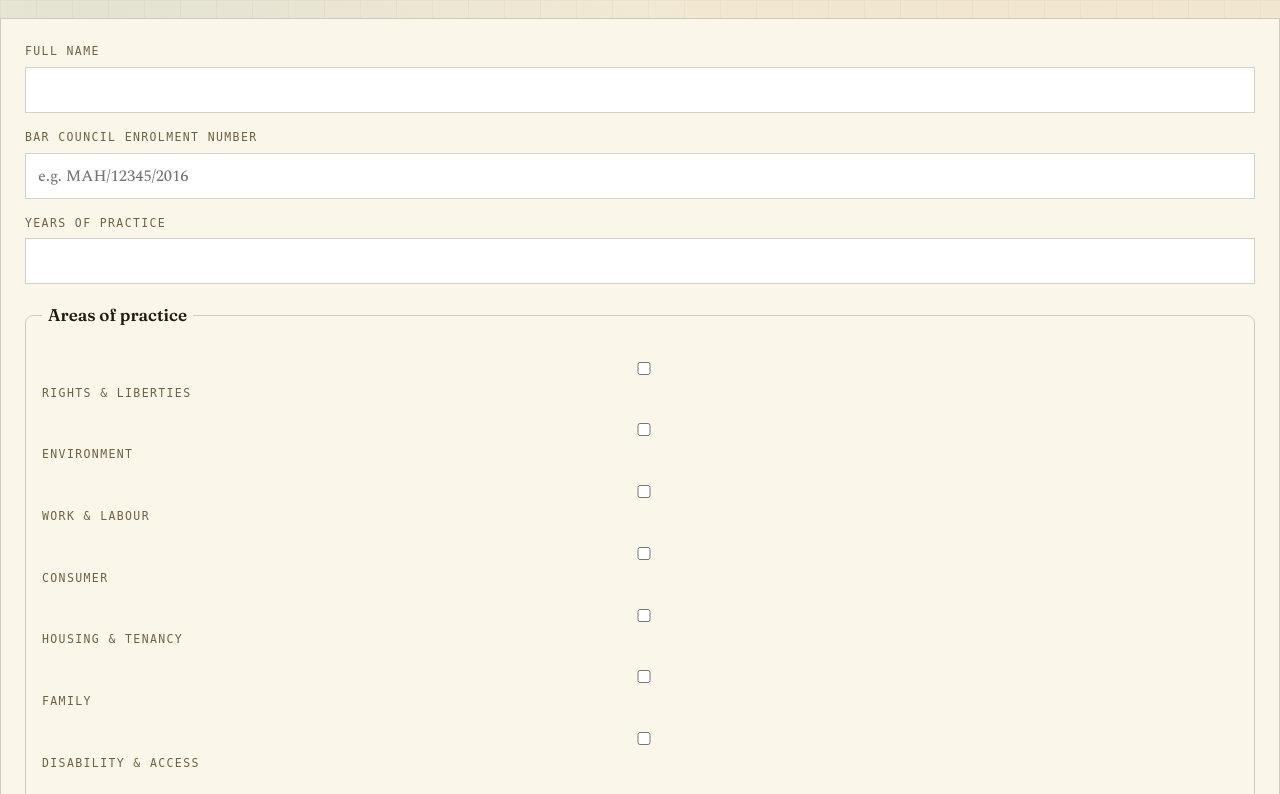
Test: LawyerApplicationForm › surfaces server-side validation errors
Type "M P" into the field labelled "Full name". click: (640, 90)
box: [25,67,1255,113]
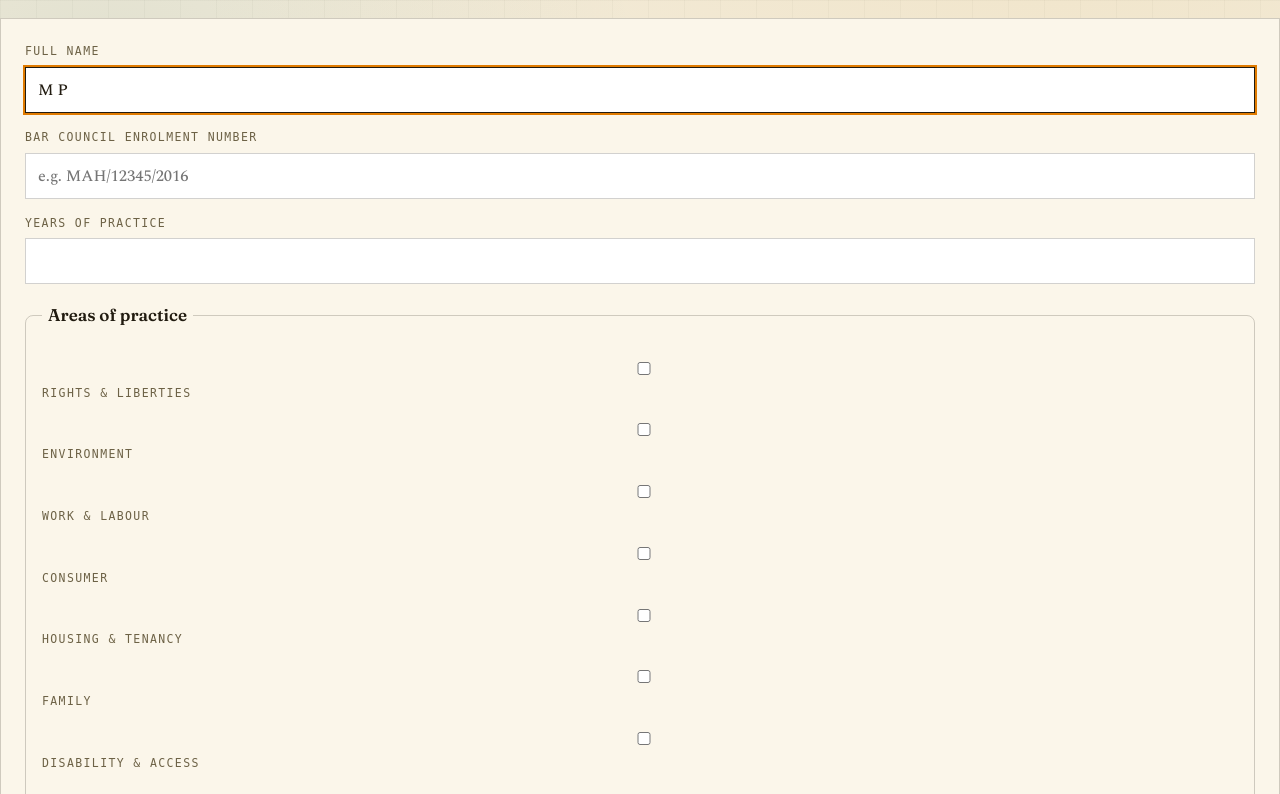
Type "x" into the field labelled "Bar council enrolment number". click: (640, 176)
box: [25,153,1255,199]
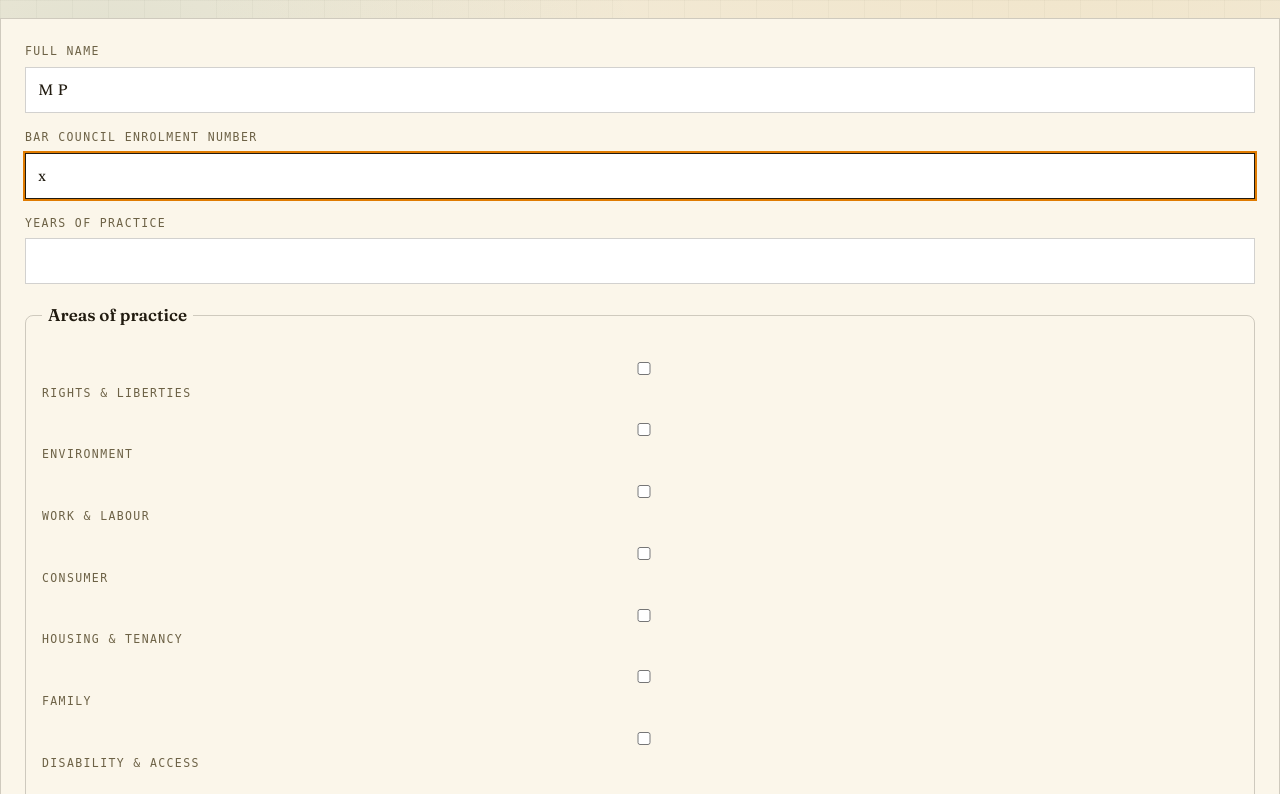
Type "2" into the number field labelled "Years of practice". click: (640, 261)
box: [25,238,1255,284]
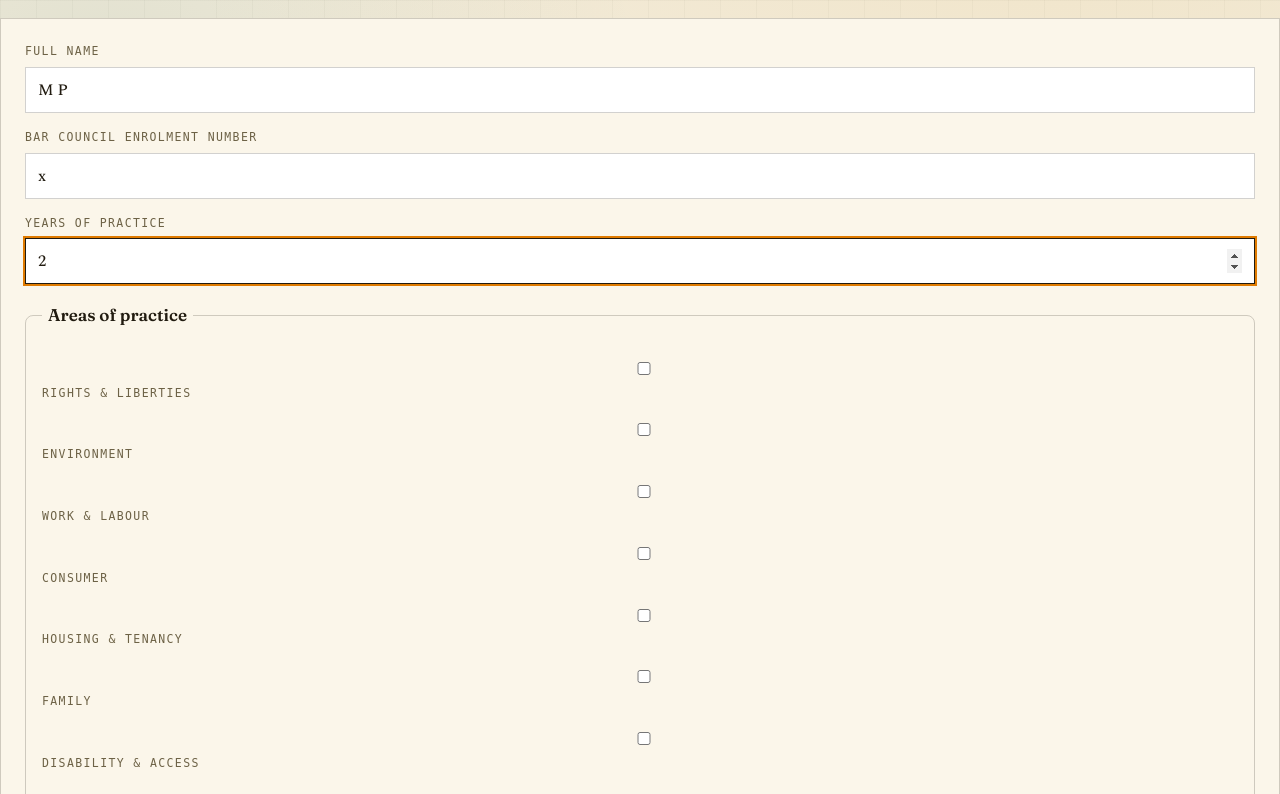
Click the checkbox labelled "Environment". click: (644, 430)
box: [46,424,1242,436]
(page scrolled)
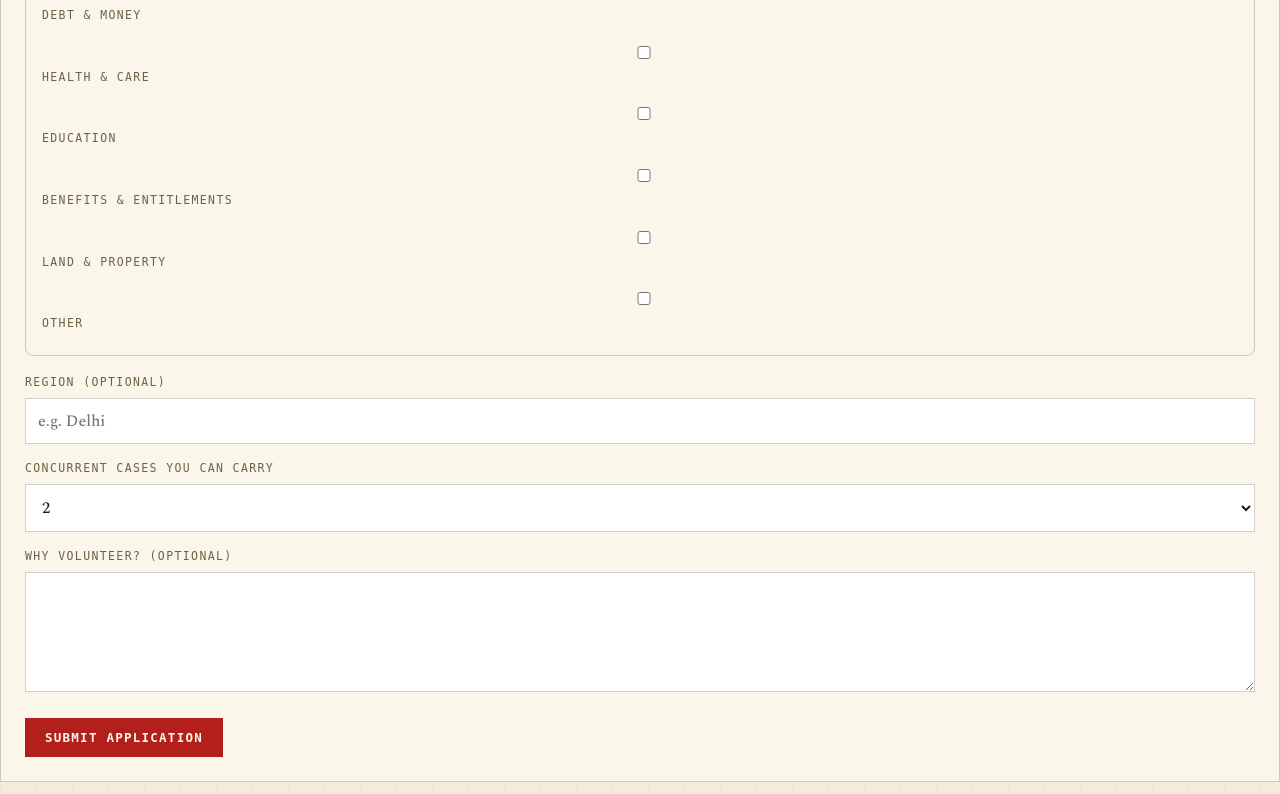
Click the button "Submit application". click: (124, 737)
box: [25,718,223,757]
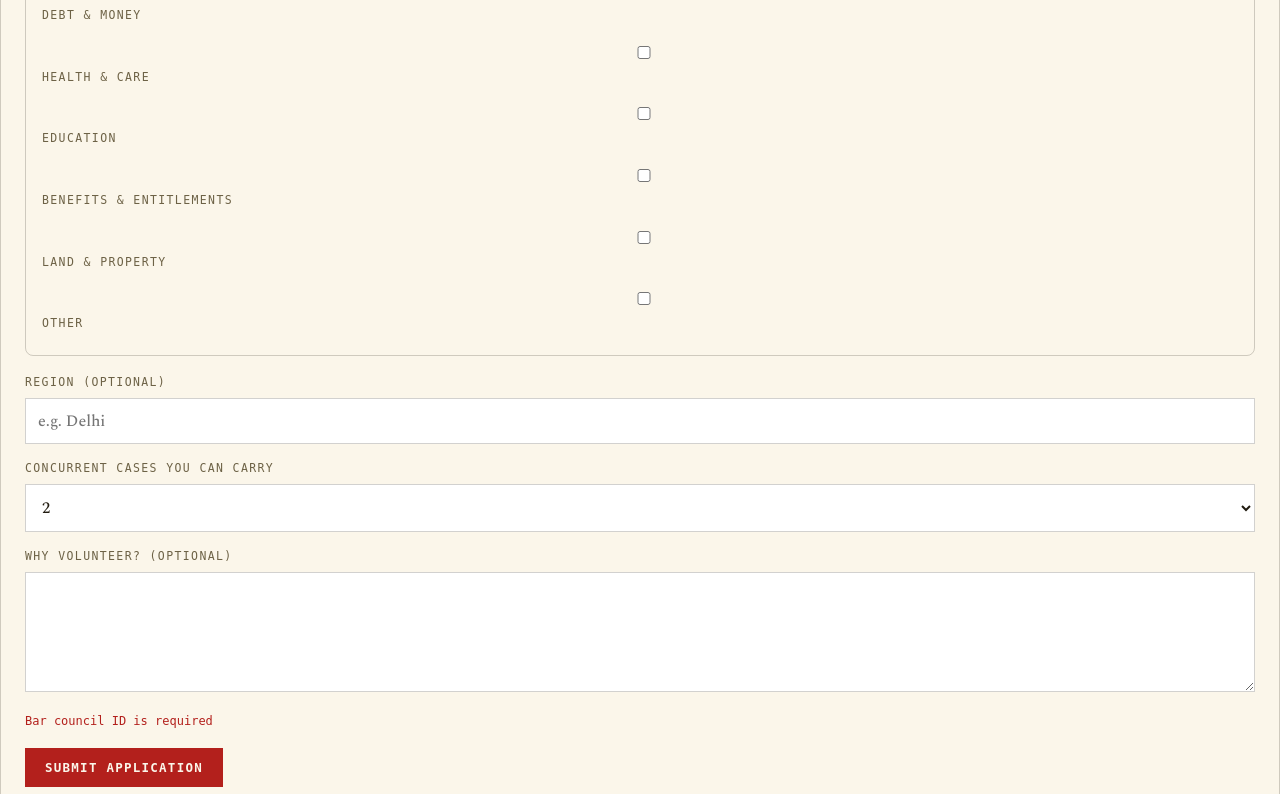
Expected: the text "Bar council ID is required" is shown, [25,714,213,728]
